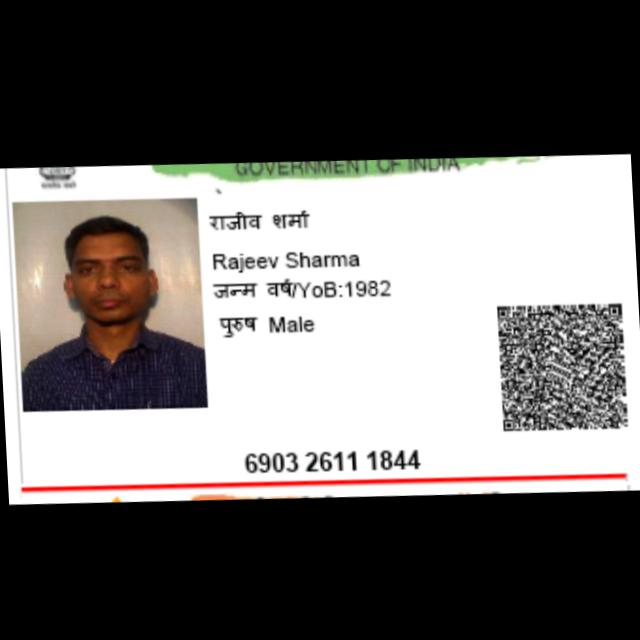aadhaar: (0, 135, 640, 511)
